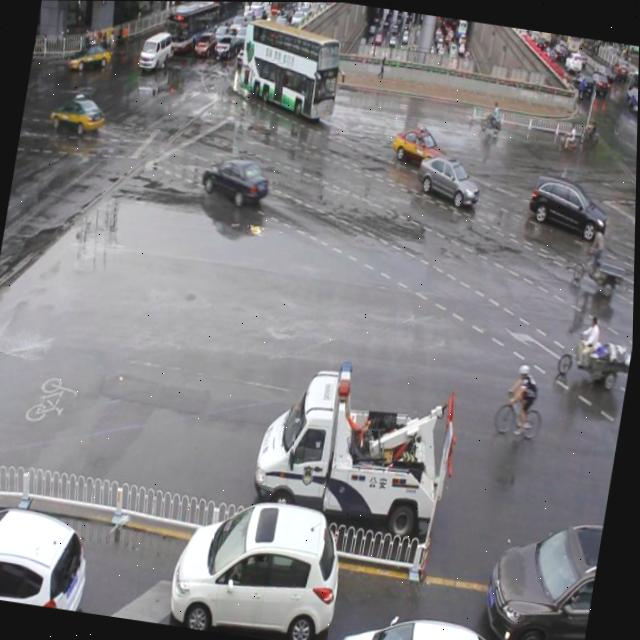bus: (250, 348, 468, 547)
car: (167, 487, 353, 640), (478, 504, 606, 640), (0, 501, 97, 612), (333, 606, 529, 640), (523, 173, 612, 243), (197, 151, 272, 212), (415, 155, 482, 209), (391, 124, 452, 171)
van: (232, 16, 345, 122)
